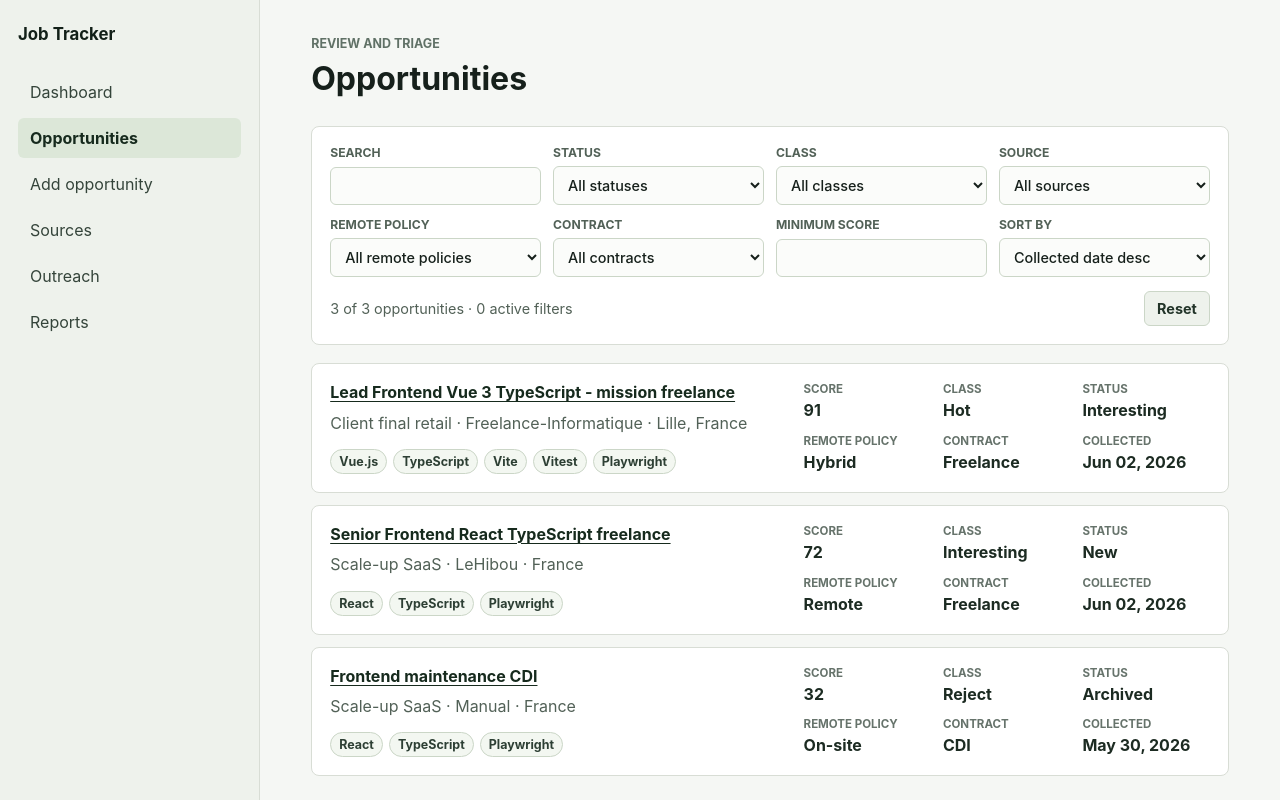
OpportunitiesPage › filters by class, remote policy, contract type and minimum score
Select "hot" in the dropdown labelled "Class". click: (881, 186)
box: [776,166,987,205]
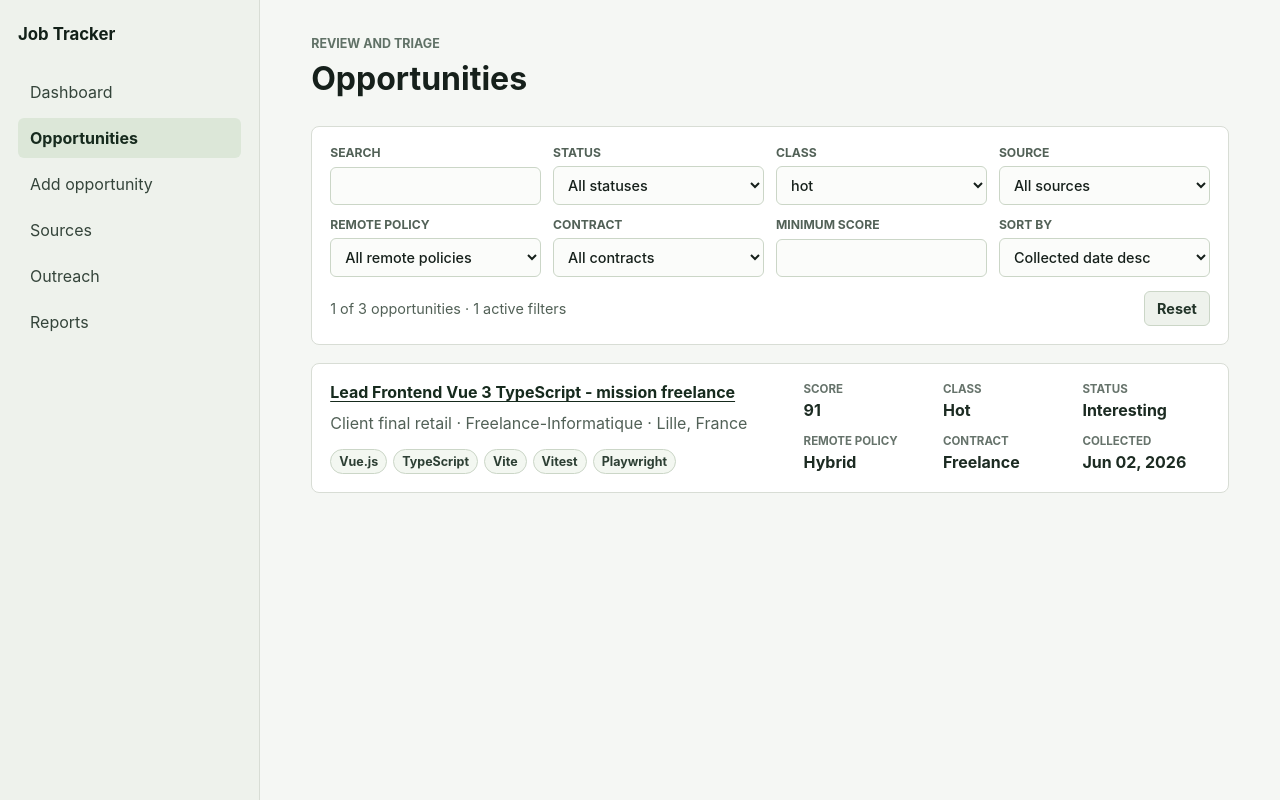
Select "hybrid" in the dropdown labelled "Remote policy". click: (436, 258)
box: [330,238,541,277]
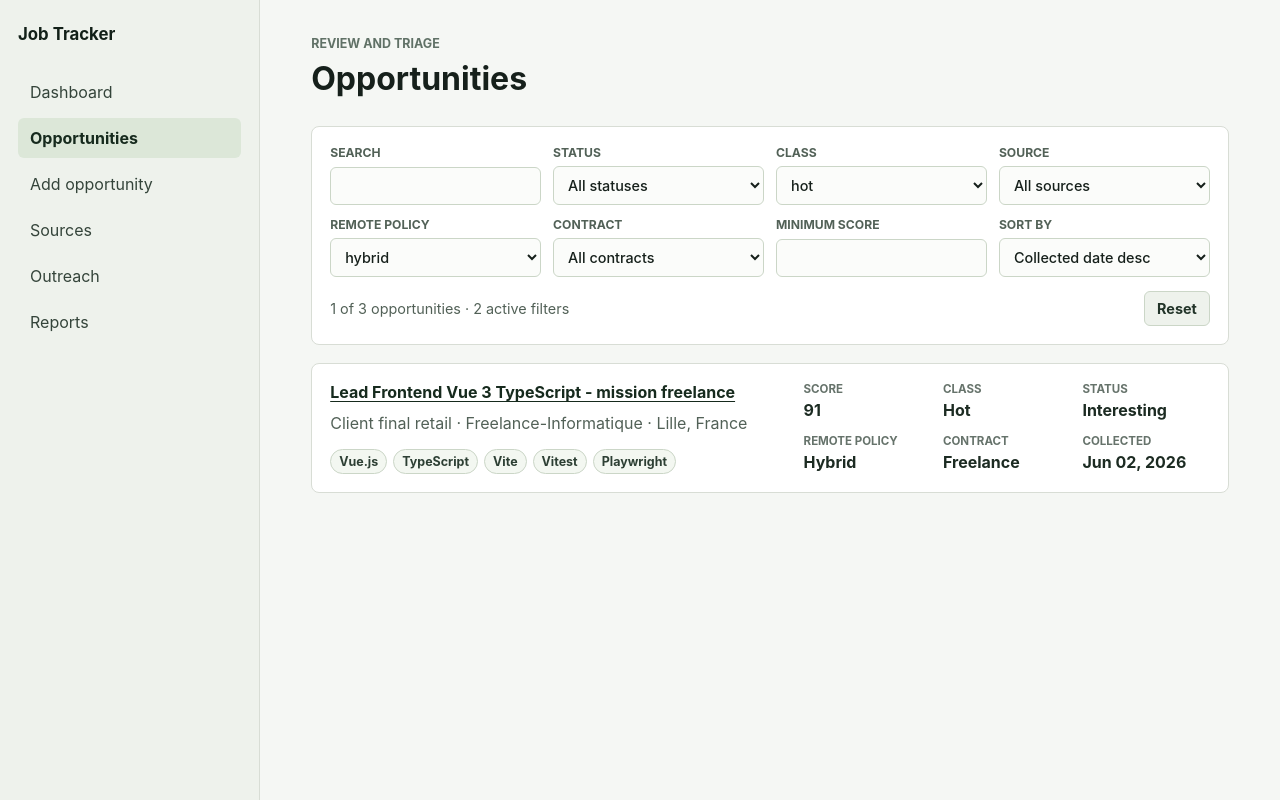
Select "freelance" in the dropdown labelled "Contract". click: (659, 258)
box: [553,238,764,277]
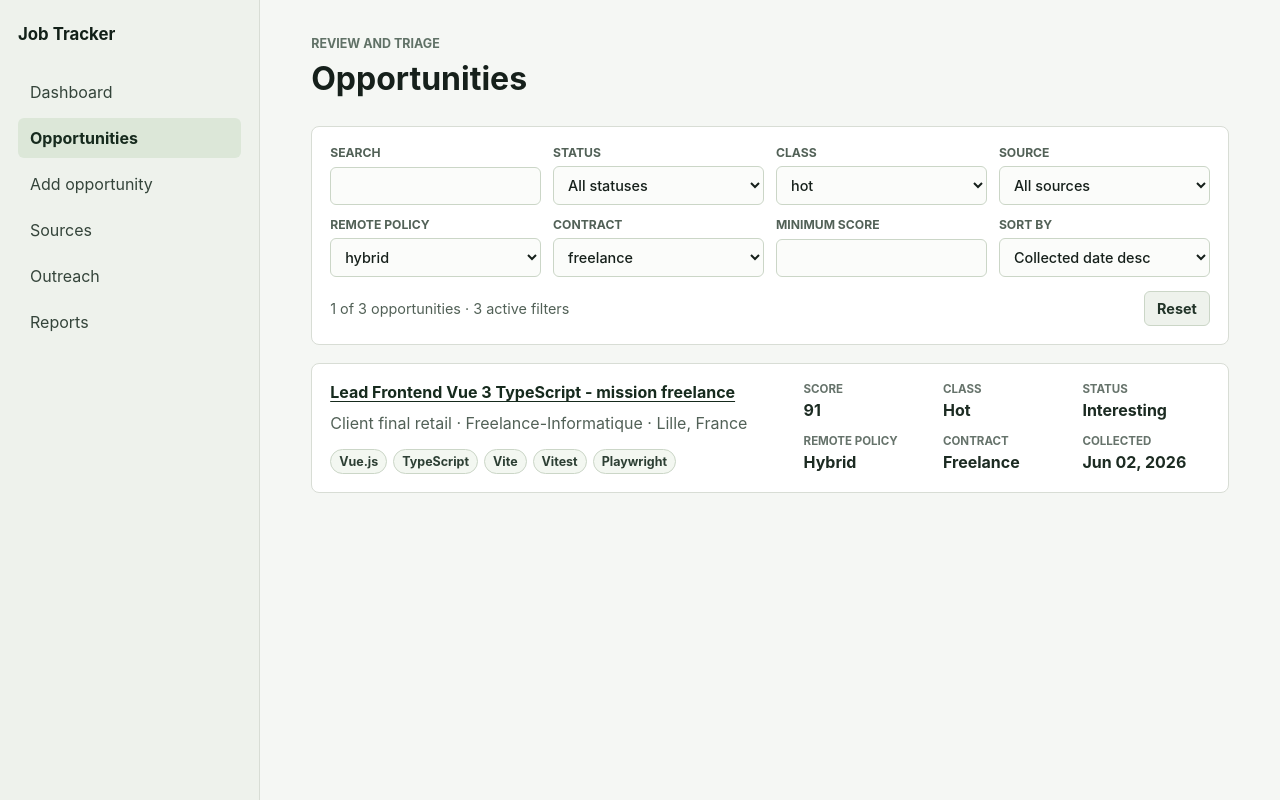
Type "80" into the number field labelled "Minimum score". click: (881, 258)
box: [776,239,987,277]
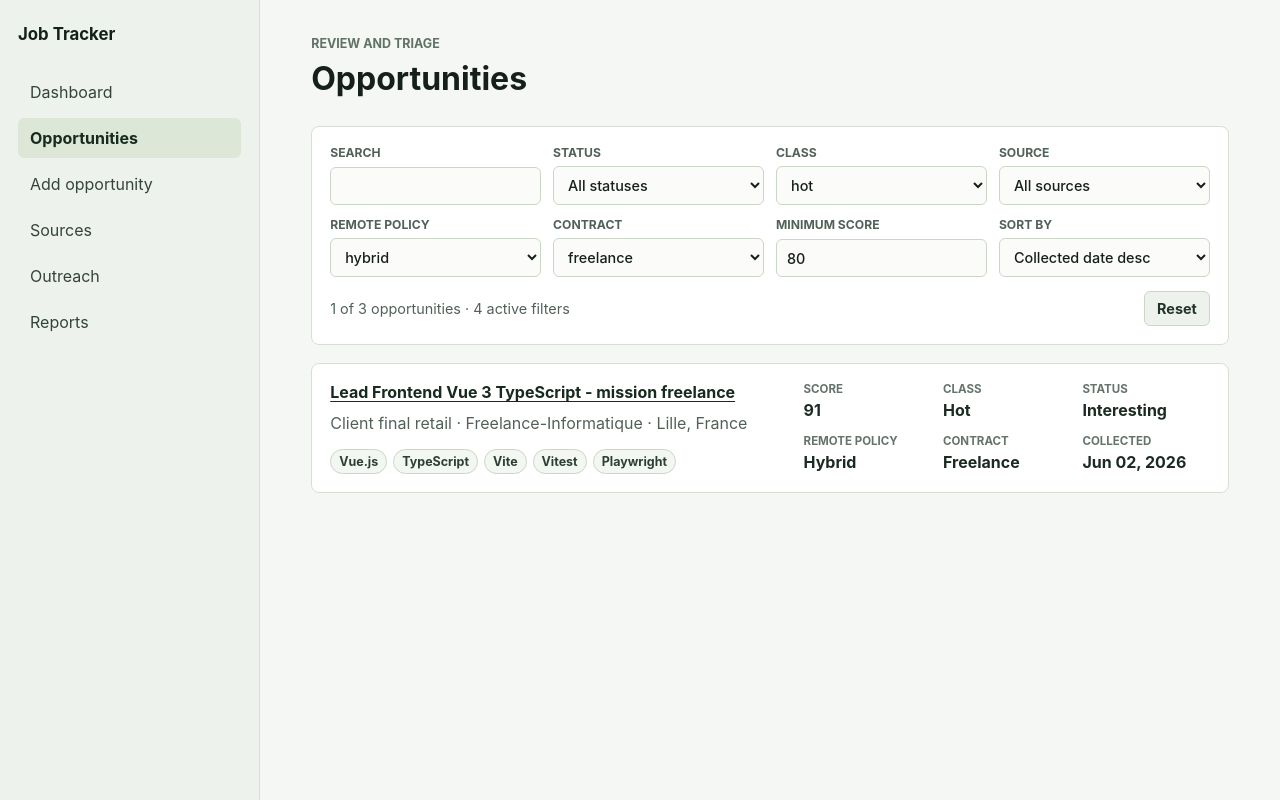
Expected: the element "Lead Frontend Vue 3 TypeScript - mission freelance" is shown, [311,363,1229,493]
Expected: the text "1 of 3 opportunities · 4 active filters" is shown, [330,300,570,317]
